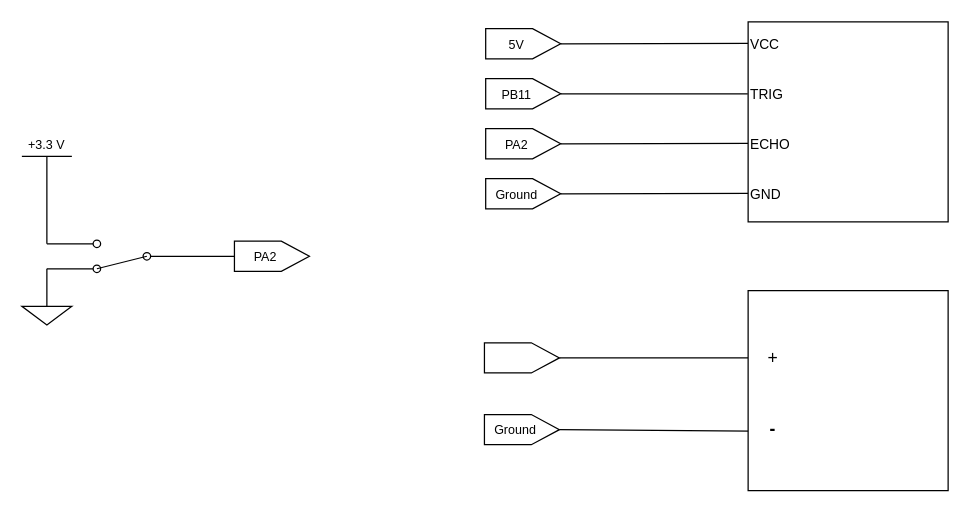
Some shapes in this 970 by 513 pixel diagram are drawn without their labels. The shapes that lost their labels are listed below. From the top down, each one's box as (x1, y1, x2, y2) in pixels, then its label:
(747, 21, 948, 222): HC-SR04 Ultrasonic Sensor
(483, 342, 560, 373): PB10
(747, 289, 948, 491): Buzzer
